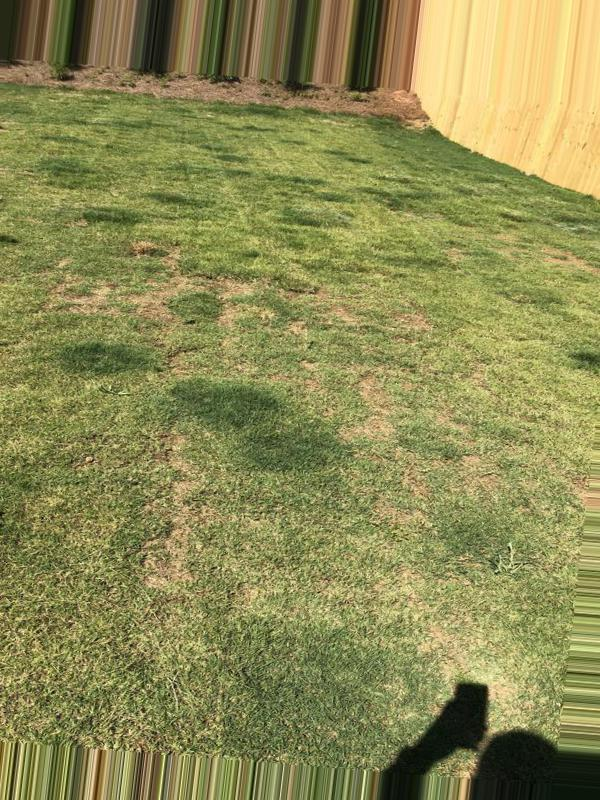patch: (402, 605, 544, 696), (143, 425, 223, 585), (134, 253, 297, 331), (463, 204, 594, 295)
